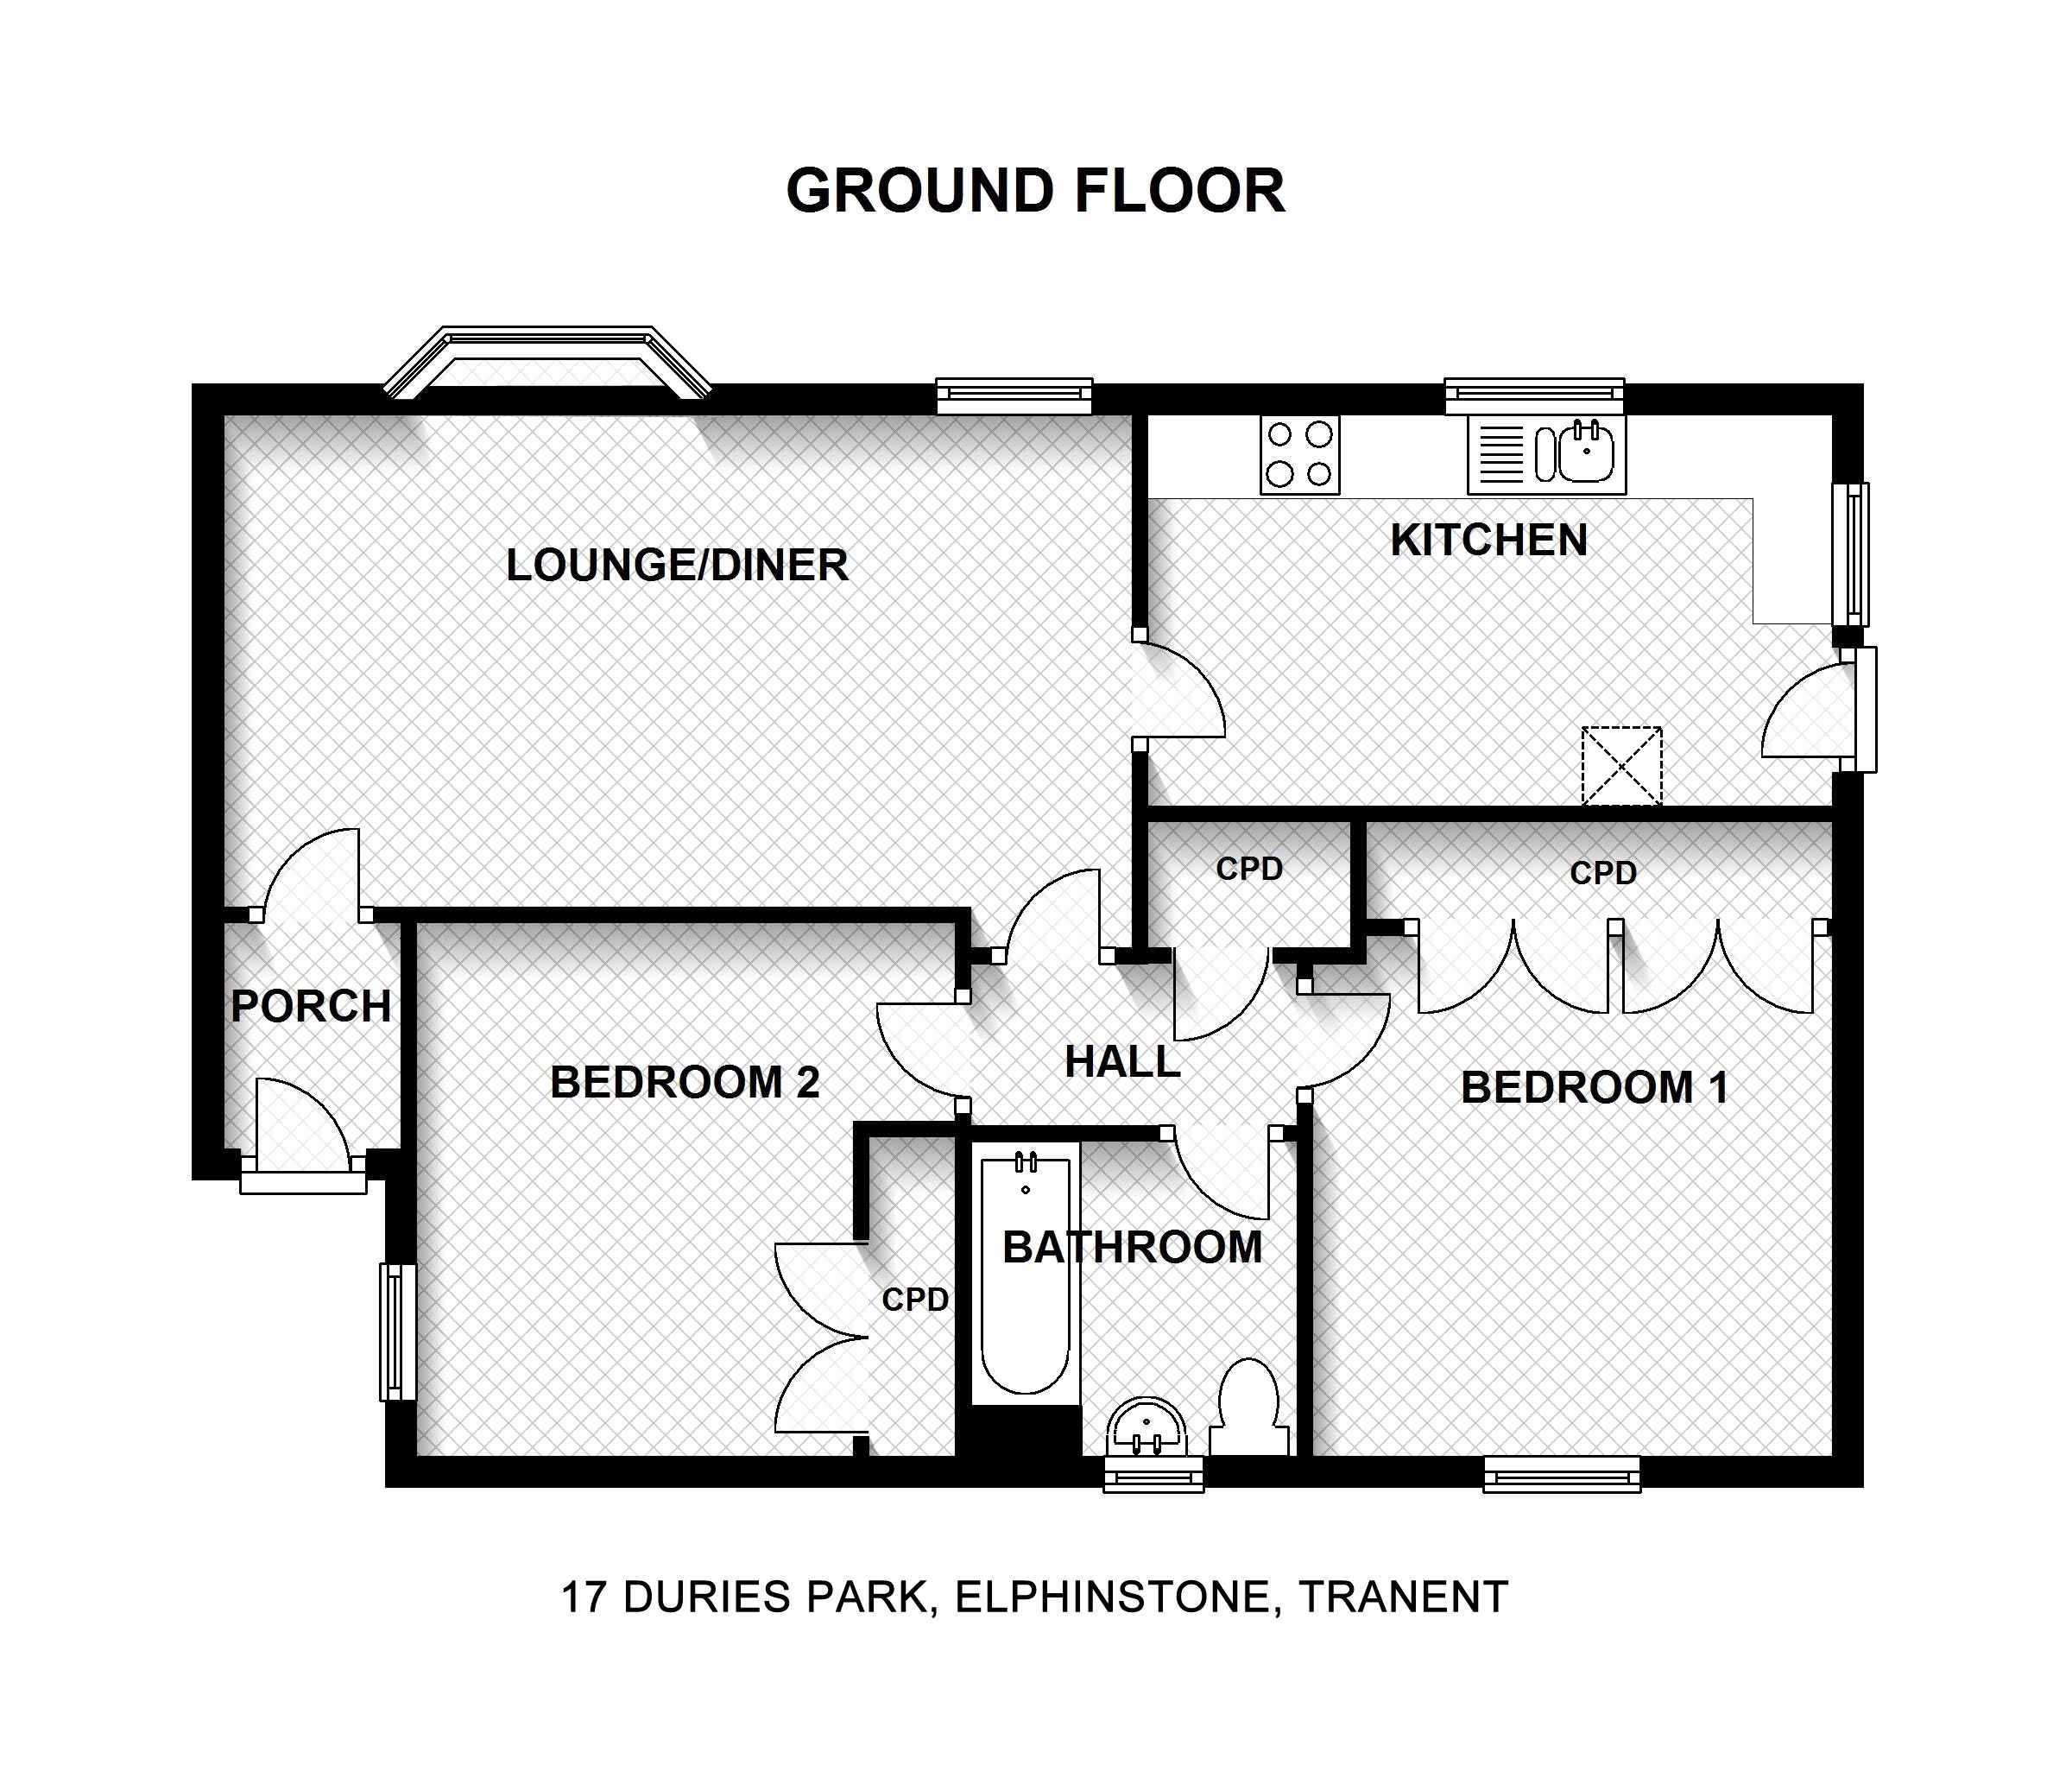window: (937, 375, 1092, 423), (1443, 379, 1628, 414), (1482, 1461, 1640, 1500), (1831, 487, 1869, 617), (382, 1269, 421, 1398)
